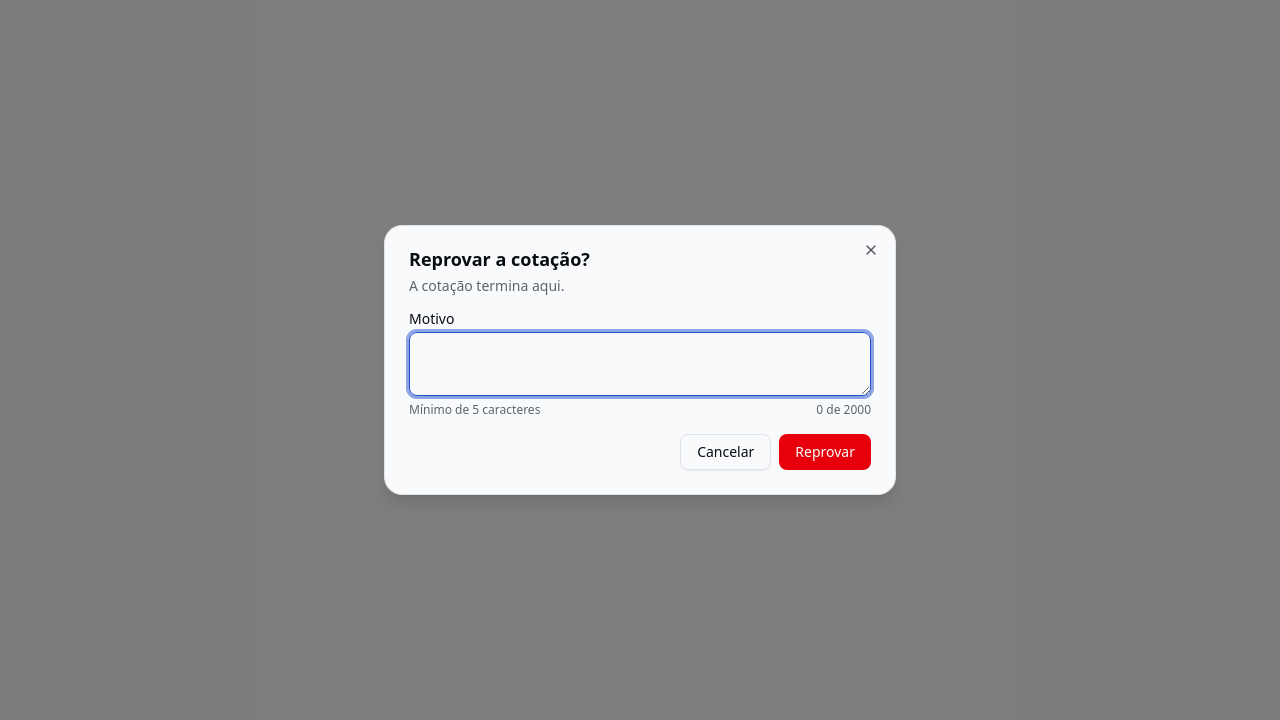
Scenario: DialogMotivo (AC-11) › mostra o contador "N de M" e o mínimo embaixo do campo
Type "abc" into the text box labelled "Motivo".
click(640, 364); type("abc")  # box left=409, top=332, right=871, bottom=396
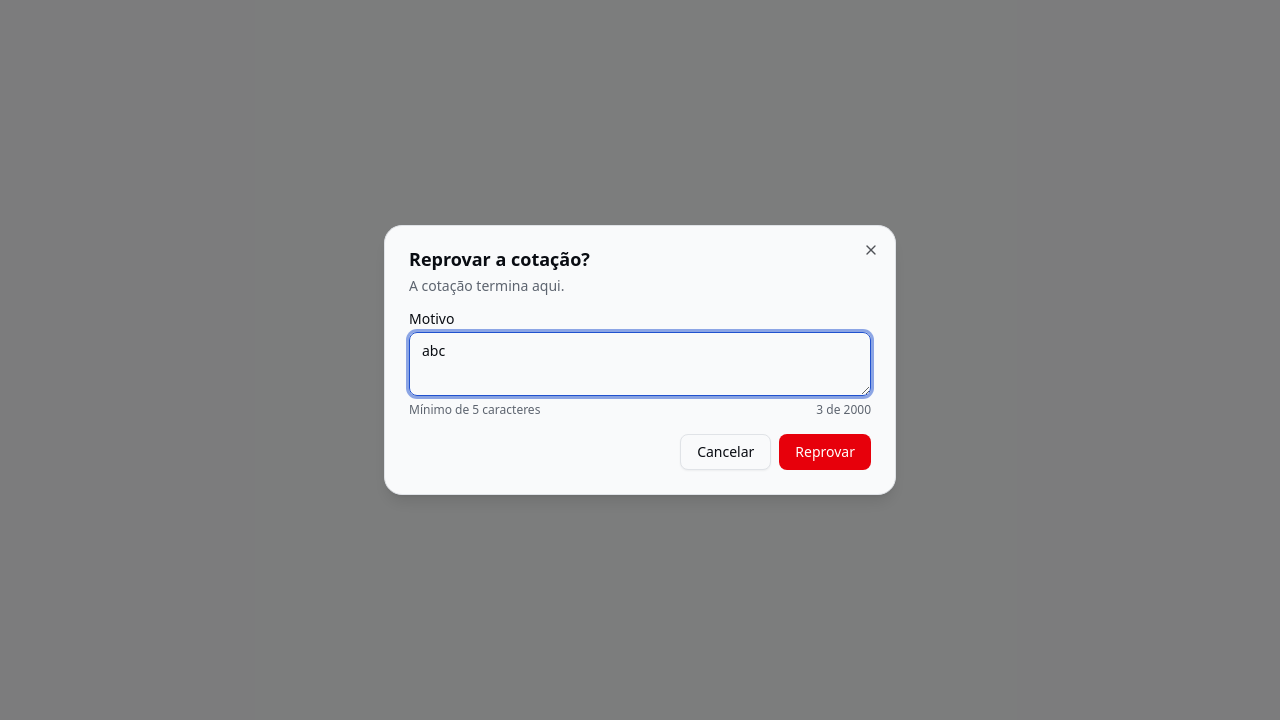
Check: the text "Mínimo de 5 caracteres" is shown, box left=409, top=402, right=540, bottom=418
Check: the text "3 de 2000" is shown, box left=816, top=402, right=871, bottom=418
